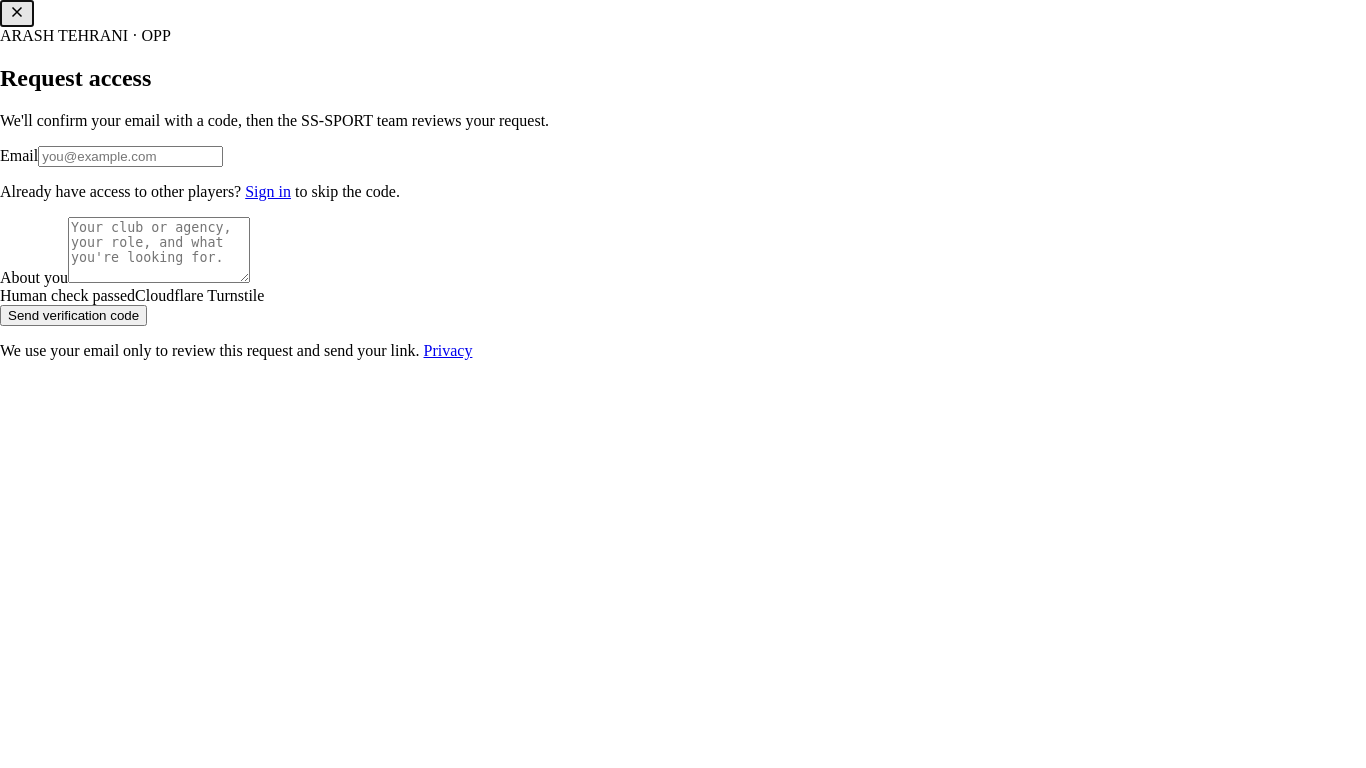
Test: RequestAccessModal (P-3 UI, canvas Locked modal), signed out › keeps only digits in the code box, six at most
Type "scout@club.com" into the field labelled "Email" at {"x": 131, "y": 156}, box [38,146,223,167]
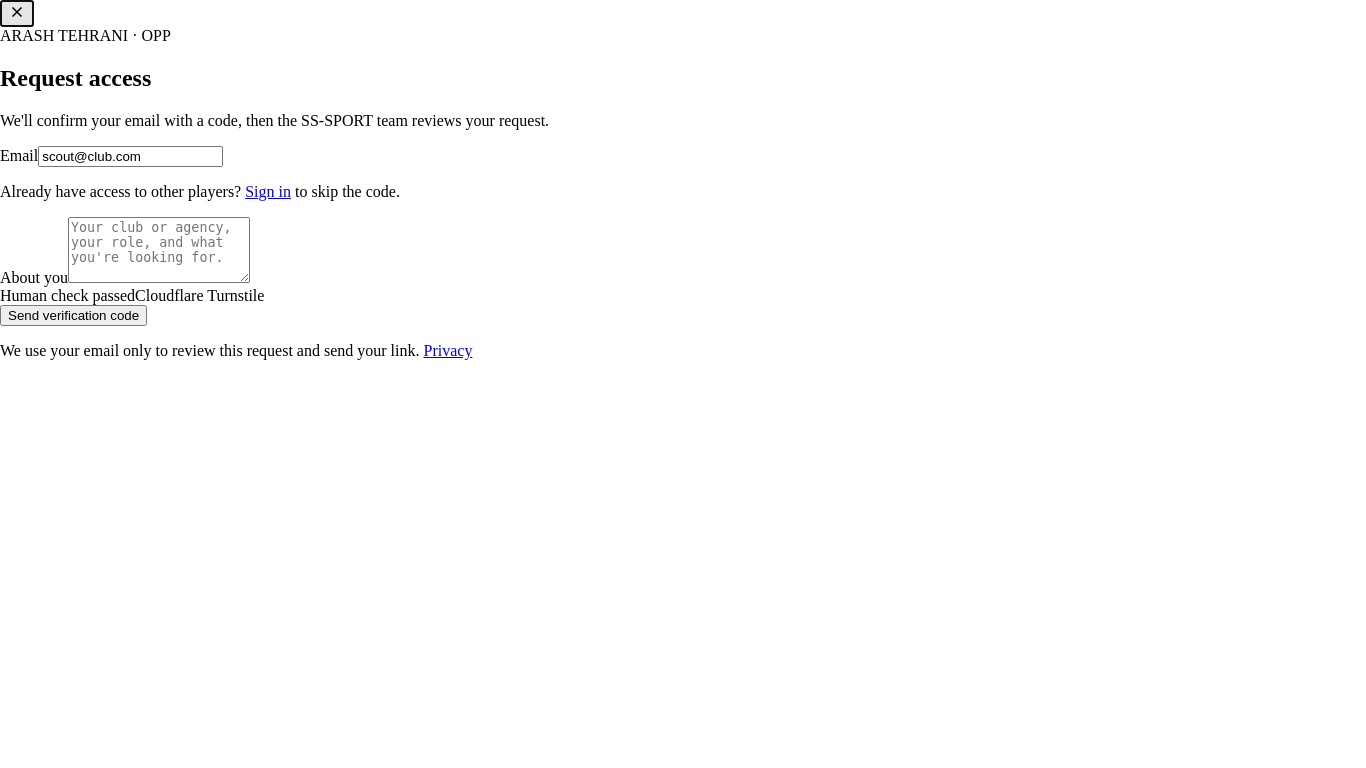
Type "Head scout at Club Aurora" into the text box labelled "About you" at {"x": 159, "y": 250}, box [68,217,250,283]
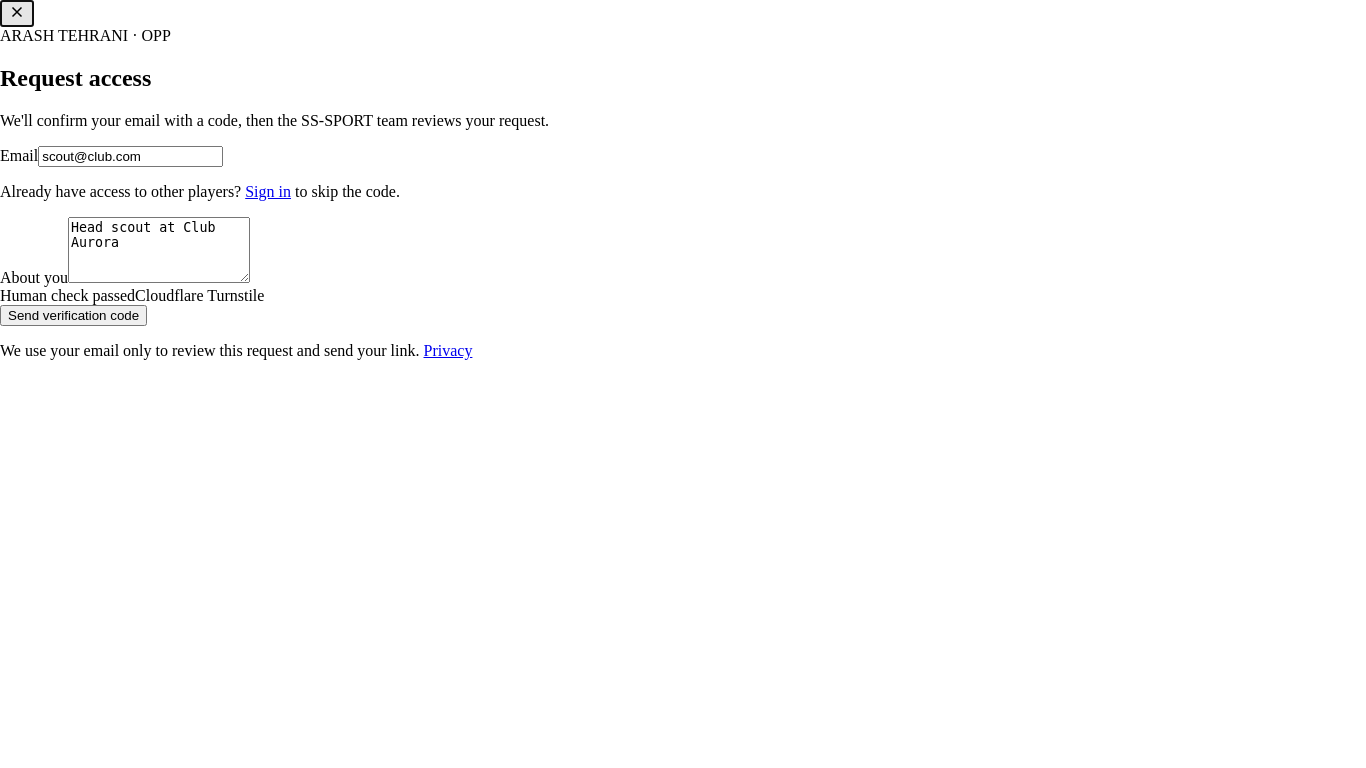
Click the button "Send verification code" at {"x": 74, "y": 315}, box [0,305,147,326]
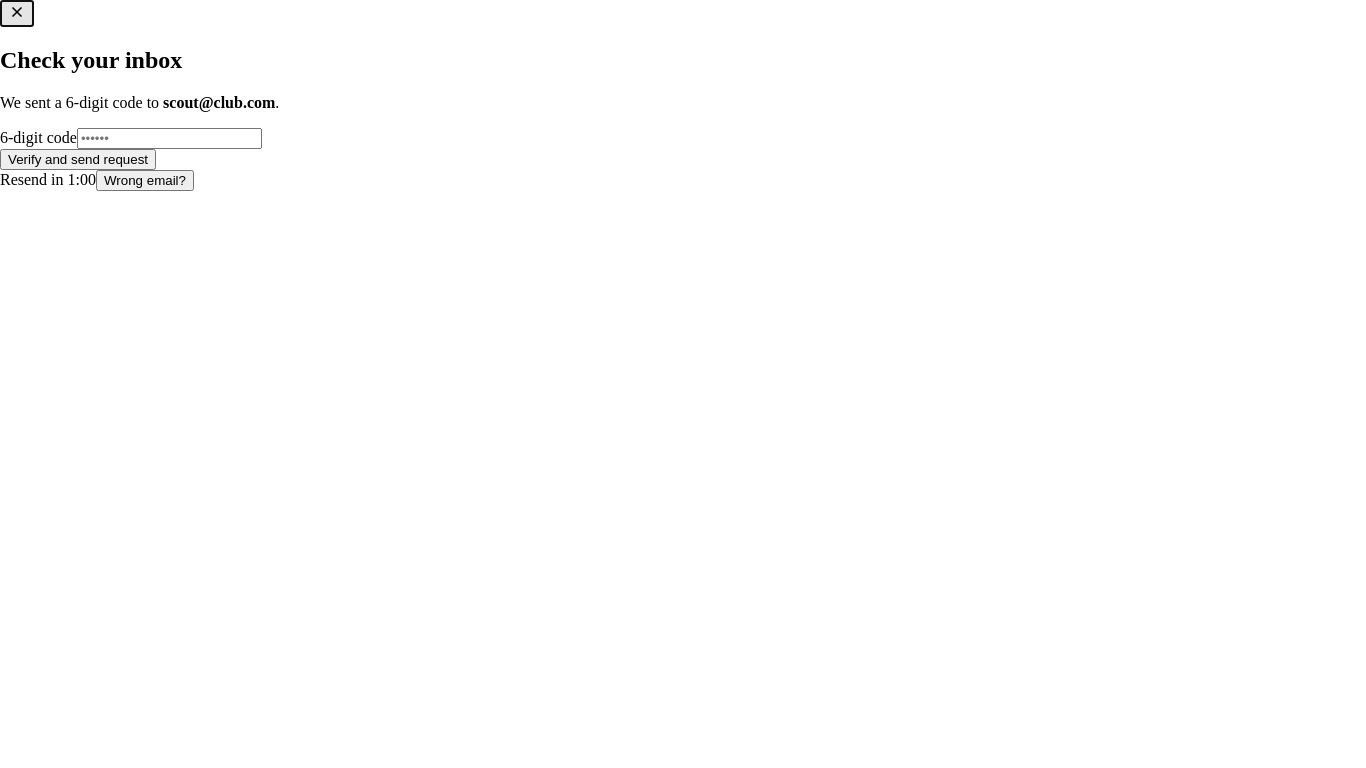
Type "12a-34 5678" into the field labelled "6-digit code" at {"x": 169, "y": 138}, box [77,128,262,149]
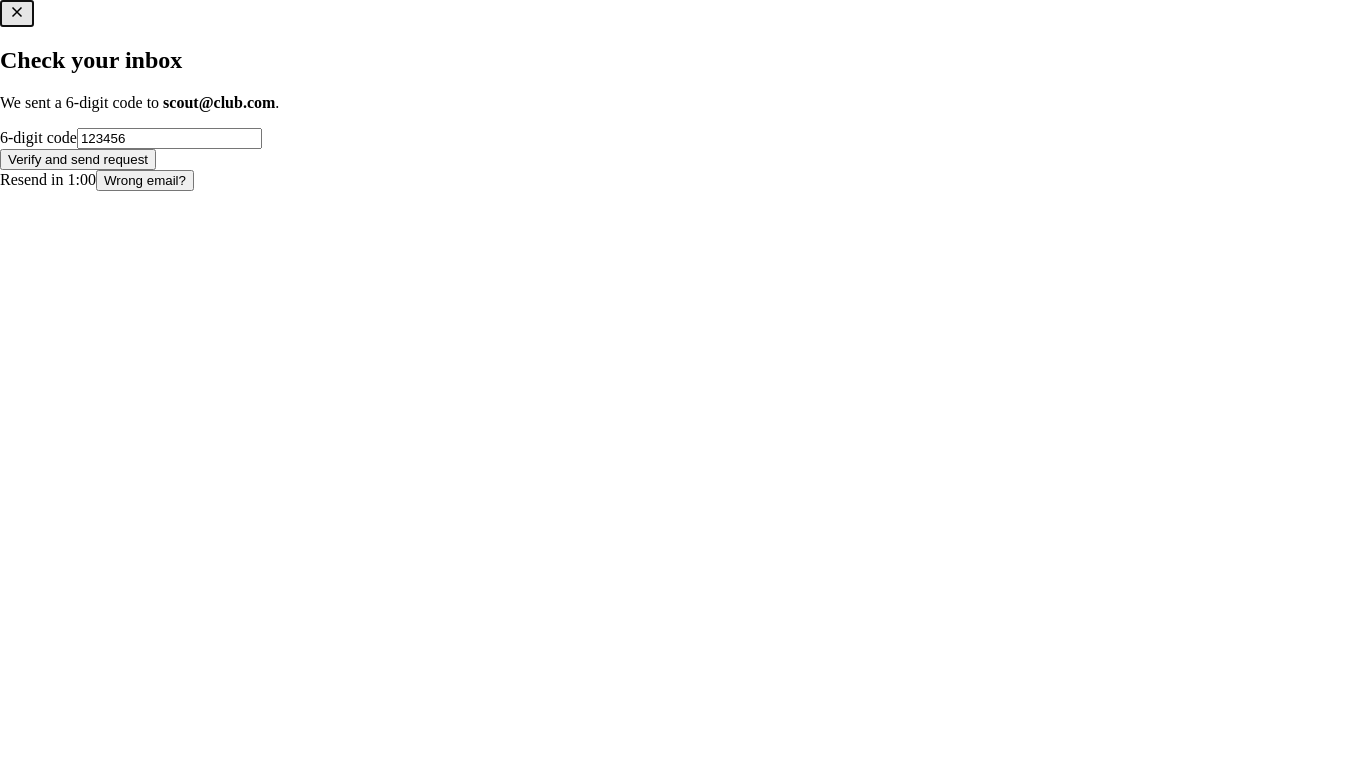
Result: the field labelled "6-digit code" holds "123456" at [77,128,262,149]
